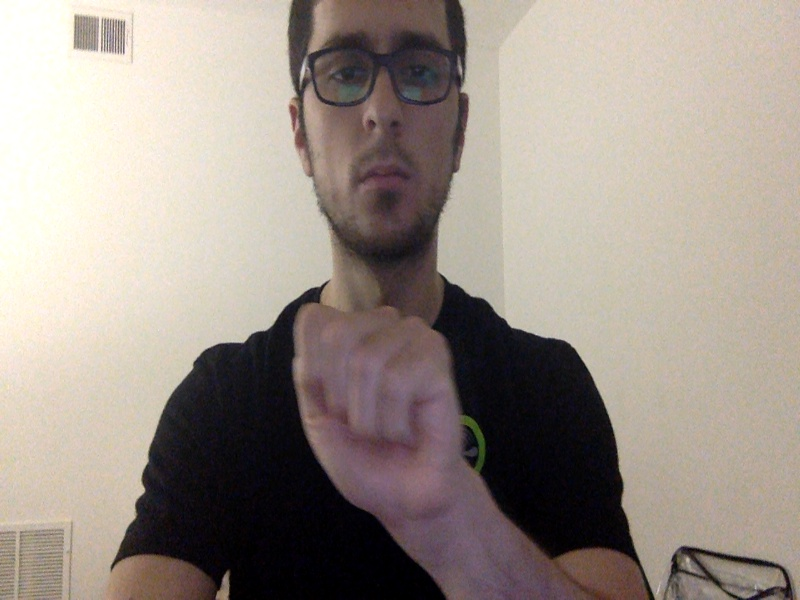0-hand: (292, 303, 467, 520)
